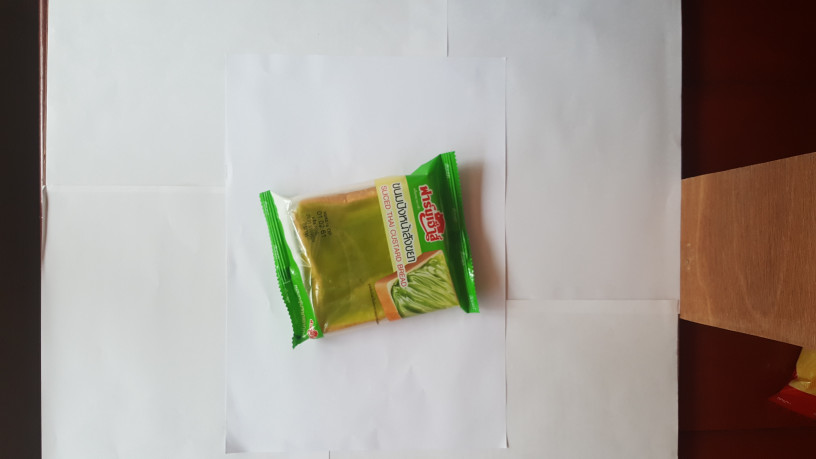farmhouse-bread-pandan: (246, 148, 486, 351)
